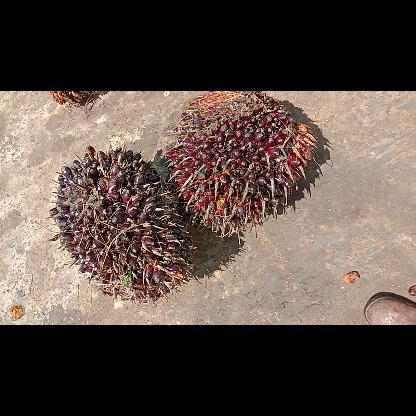TBS mentah: (48, 144, 195, 298), (165, 91, 319, 233)
